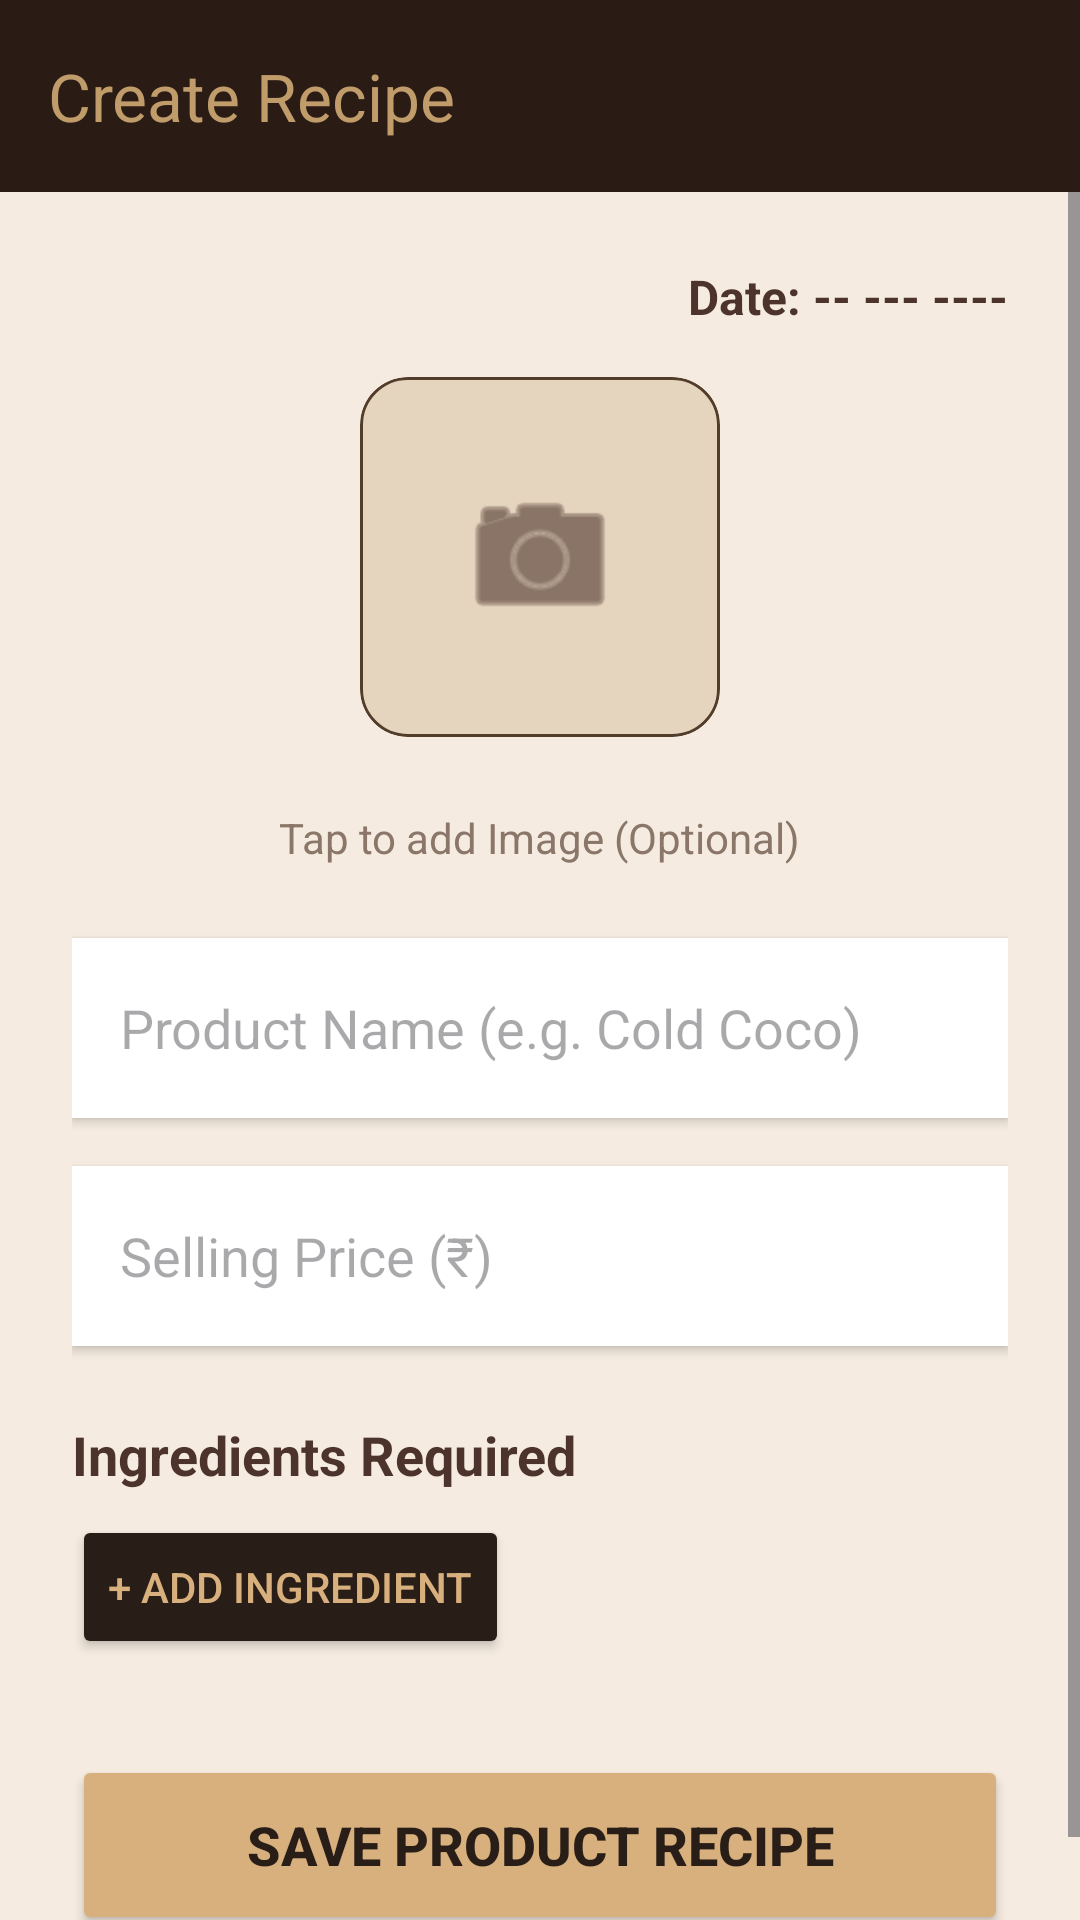

Icon click points for this 1080*1920 phone screenshot, format (x,y):
camera: (540,557)
